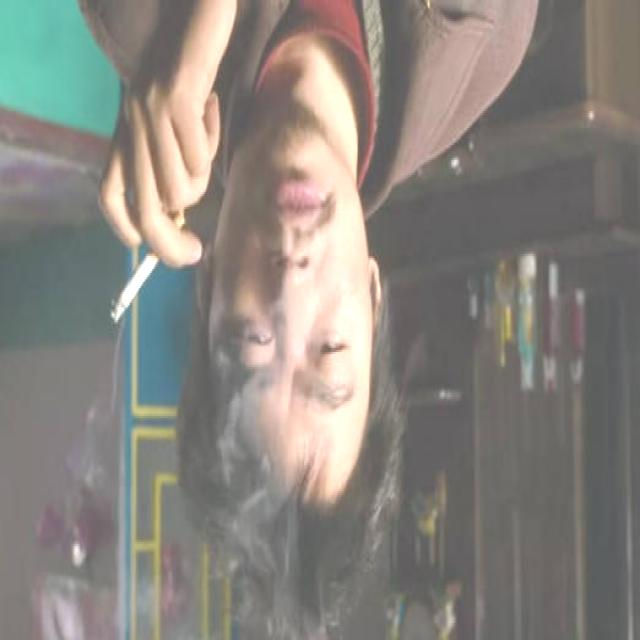smoke: (110, 213, 186, 324)
